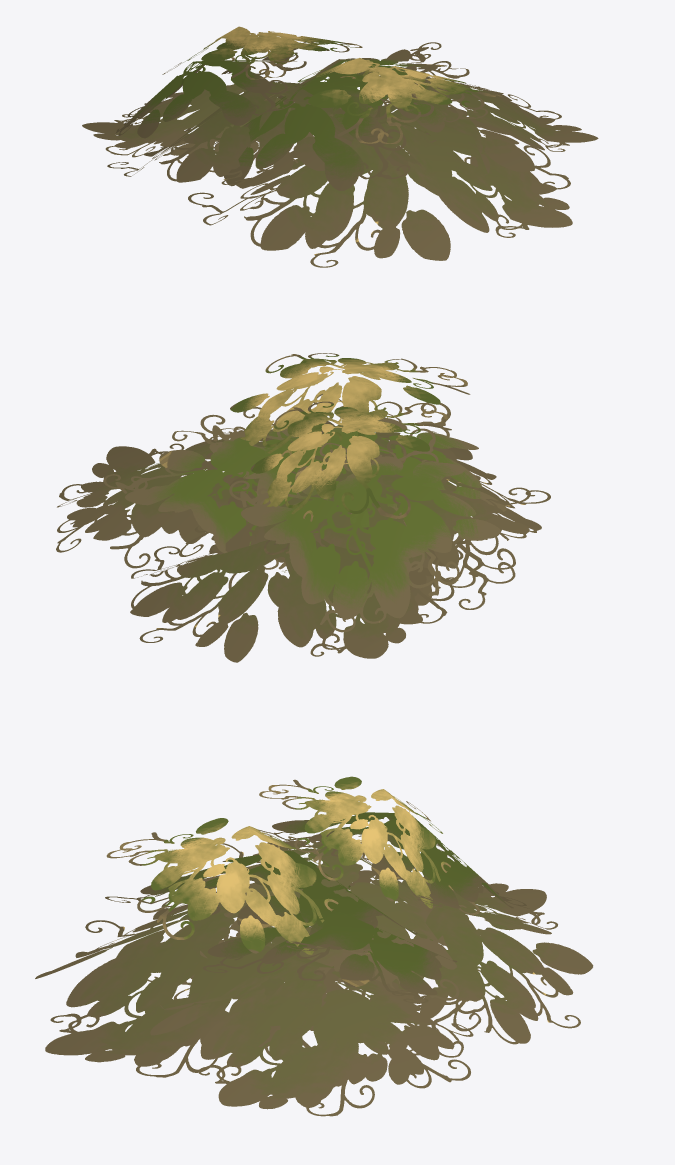
The model's file is BushCluster.fbx.
The picture shows the model from 3 angles, top to bottom: view 1: azimuth 30°, elevation 25°; view 2: azimuth 150°, elevation 25°; view 3: azimuth 270°, elevation 25°; orthographic projection. The views are drawn at different scales.
Parts seen in each view (by area): view 1: BushCluster; view 2: BushCluster; view 3: BushCluster.
Boxes of the visible parts, x1,y1,x2,y2 form: BushCluster: [82, 26, 598, 267]; BushCluster: [56, 353, 550, 662]; BushCluster: [35, 776, 593, 1116].
Bounding box in the file's own units: 238 × 75.7 × 216.
